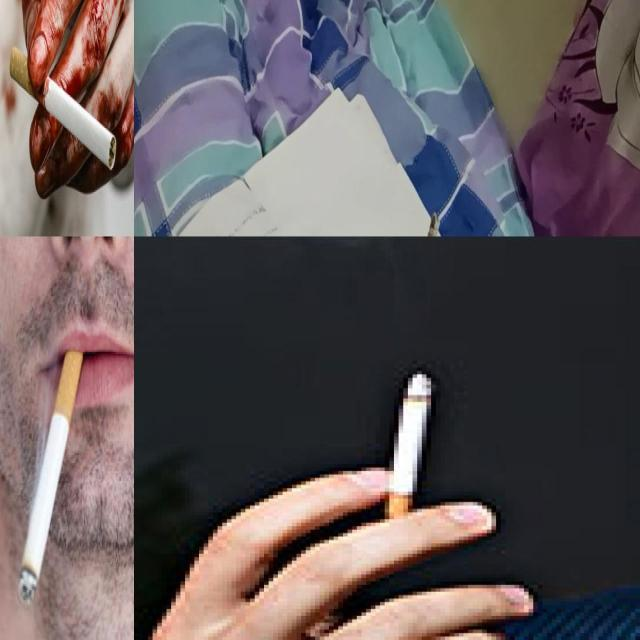smoking: (18, 344, 84, 609), (8, 42, 118, 171), (379, 363, 426, 512)
